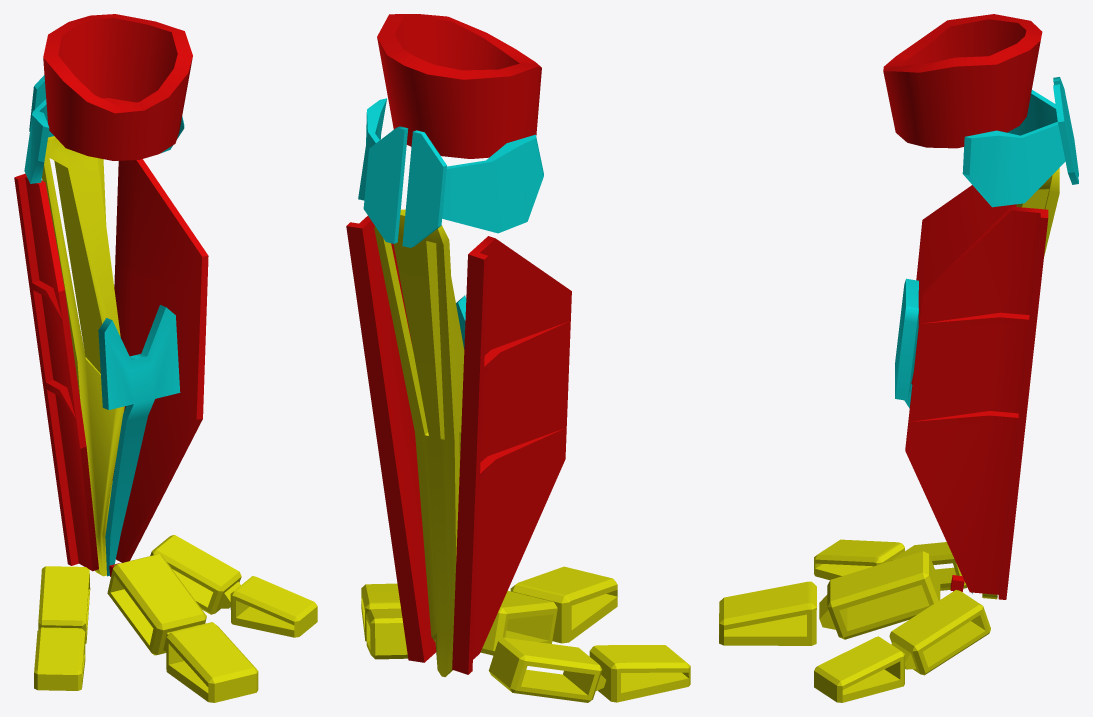
Rendered from SE_JunkFoot_Prop.fbx.
3 views of the same model, side by side, from view 1: azimuth 30°, elevation 25°; view 2: azimuth 150°, elevation 25°; view 3: azimuth 270°, elevation 25° (orthographic). The views are drawn at different scales.
Visible parts, largest first — view 1: polySurface33; view 2: polySurface33; view 3: polySurface33.
Part boxes in pixels (x1,y1,x2,y2): polySurface33: [14, 14, 317, 702]; polySurface33: [346, 14, 690, 702]; polySurface33: [719, 14, 1078, 702].
Size of the model in its own units: 30.57 by 59.24 by 32.18.
